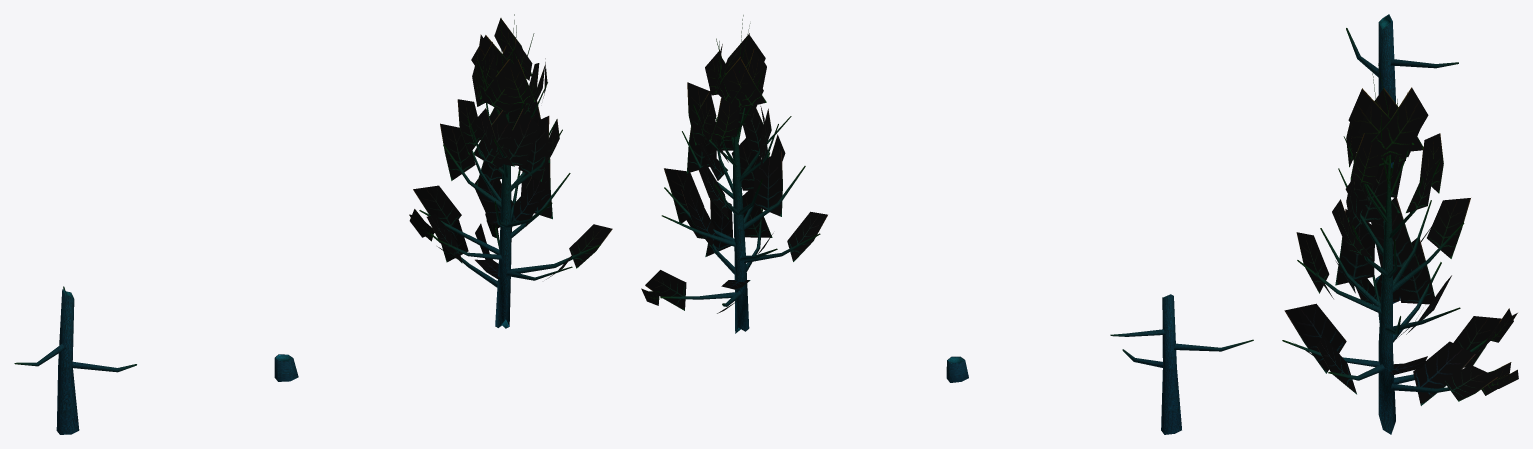
Rendered from Picea_Abies_Props.glb.
The picture shows the model from 3 angles, left to right: view 1: azimuth 30°, elevation 25°; view 2: azimuth 150°, elevation 25°; view 3: azimuth 270°, elevation 25°; orthographic projection. The views are drawn at different scales.
Parts seen in each view (by area): view 1: Picea_Albies_Prop_3, Picea_Albies_Prop_1, Picea_Albies_Prop_2; view 2: Picea_Albies_Prop_3, Picea_Albies_Prop_1; view 3: Picea_Albies_Prop_3, Picea_Albies_Prop_1.
Boxes of the visible parts, x1,y1,x2,y2 form: Picea_Albies_Prop_3: (409, 14, 612, 328); Picea_Albies_Prop_1: (14, 286, 136, 434); Picea_Albies_Prop_2: (274, 354, 298, 381); Picea_Albies_Prop_3: (641, 15, 827, 333); Picea_Albies_Prop_1: (1110, 294, 1253, 434); Picea_Albies_Prop_3: (1282, 63, 1518, 434); Picea_Albies_Prop_1: (1346, 14, 1458, 168).
Size of the model in its own units: 27.04 by 14.03 by 8.15.
Materials: 3 (3 with a texture image).
